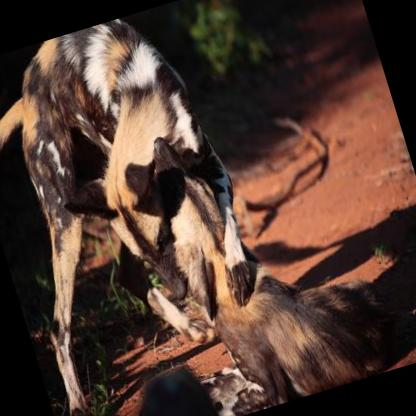African_hunting_dog: (0, 0, 288, 416), (97, 68, 416, 416)
